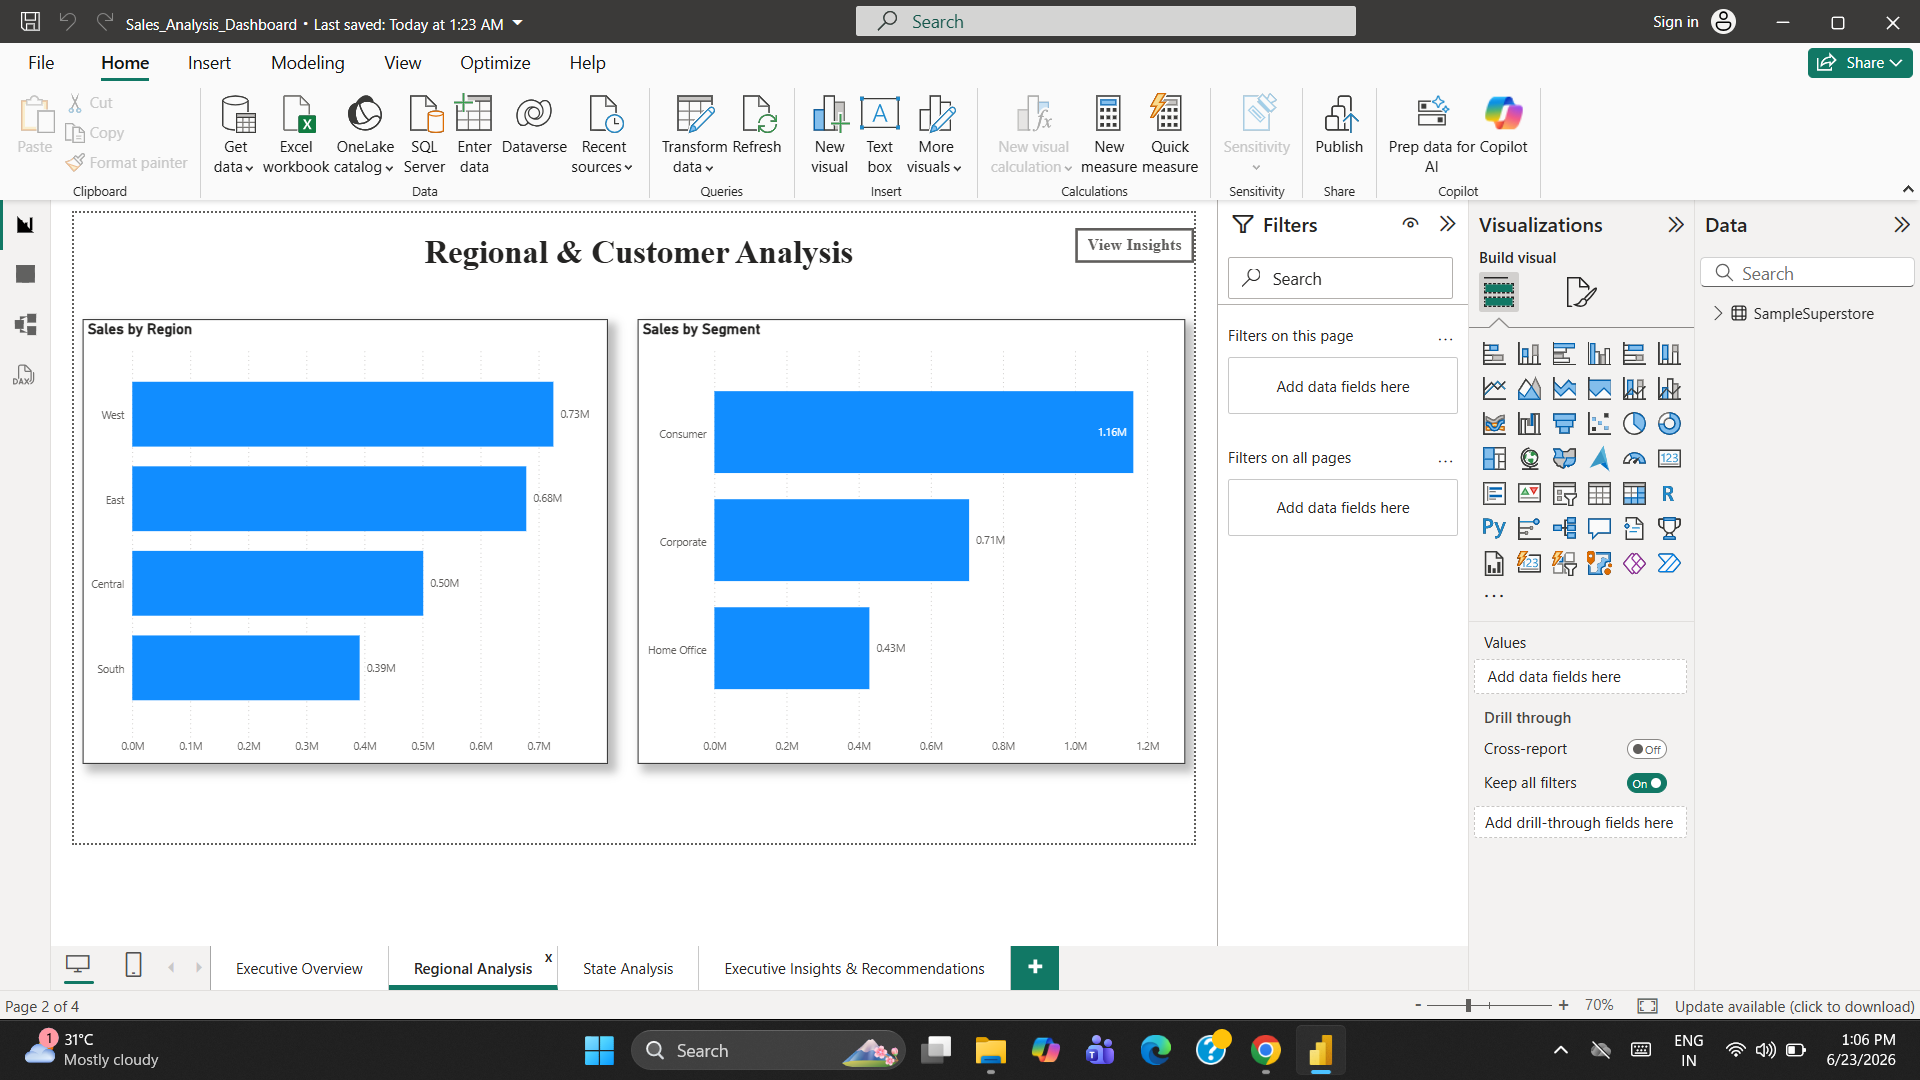

This screenshot's page, from the dashboard's own definition file:
{"tool":"powerbi","page":{"name":"Regional Analysis","canvas":[1280,720],"ordinal":1},"visuals":[{"type":"textbox","box":[9.6,0,1270.7,75.5],"z":0},{"type":"clusteredBarChart","title":"Sales by Region","fields":{"Y":["Sum(SampleSuperstore.Sales)"],"Category":["SampleSuperstore.Region"]},"box":[9.6,120.8,599.7,507.7],"z":1000},{"type":"clusteredBarChart","title":"Sales by Segment","fields":{"Y":["Sum(SampleSuperstore.Sales)"],"Category":["SampleSuperstore.Segment"]},"box":[644.9,120.8,625.7,507.7],"z":2000},{"type":"actionButton","box":[1144.4,17.8,135.8,39.8],"z":2001}]}

Visuals, with their boxes on the page's 1280x720 design canvas (x1, y1, x2, y2). These are canvas units, not pixel positions in the 1920x1080 screenshot, which may show the page scaled, cropped or inside an application window:
textbox: 10/0/1280/76
"Sales by Region" clusteredBarChart: 10/121/609/628
"Sales by Segment" clusteredBarChart: 645/121/1271/628
actionButton: 1144/18/1280/58
